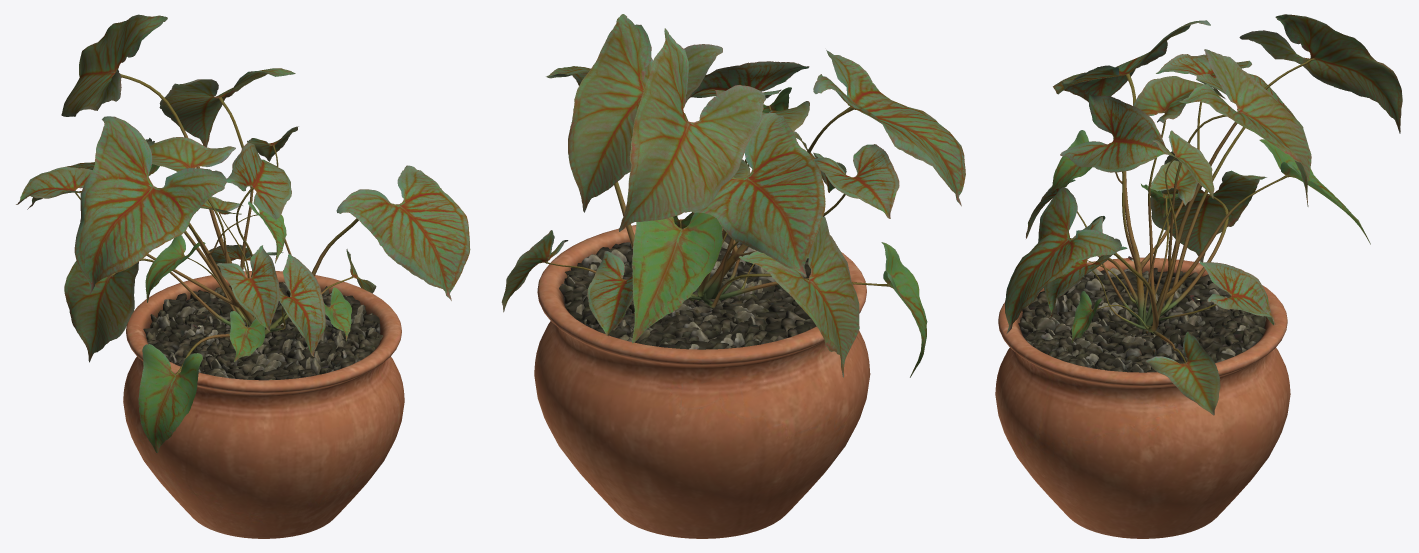
Rendered from plant.glb.
3 views of the same model, side by side, from view 1: azimuth 30°, elevation 25°; view 2: azimuth 150°, elevation 25°; view 3: azimuth 270°, elevation 25° (orthographic). The views are drawn at different scales.
Parts seen in each view (by area): view 1: leaves, pot, dirt; view 2: leaves, pot, dirt; view 3: leaves, pot, dirt.
Boxes of the visible parts, x1,y1,x2,y2 form: leaves: (16,14,470,452); pot: (123,271,404,538); dirt: (143,282,383,380); leaves: (501,14,965,377); pot: (534,219,870,538); dirt: (559,234,816,349); leaves: (1005,14,1402,415); pot: (995,257,1290,538); dirt: (1018,267,1266,372).
Size of the model in its own units: 0.7012 by 0.8412 by 0.6574.
Materials: 3 (3 with a texture image).
